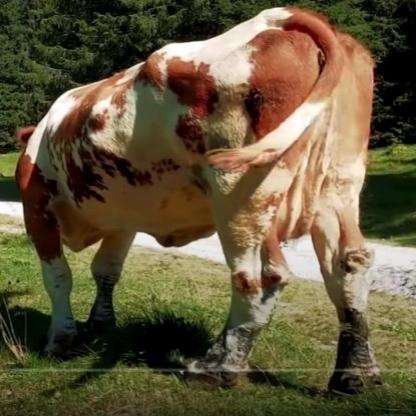cow: (17, 6, 375, 393)
